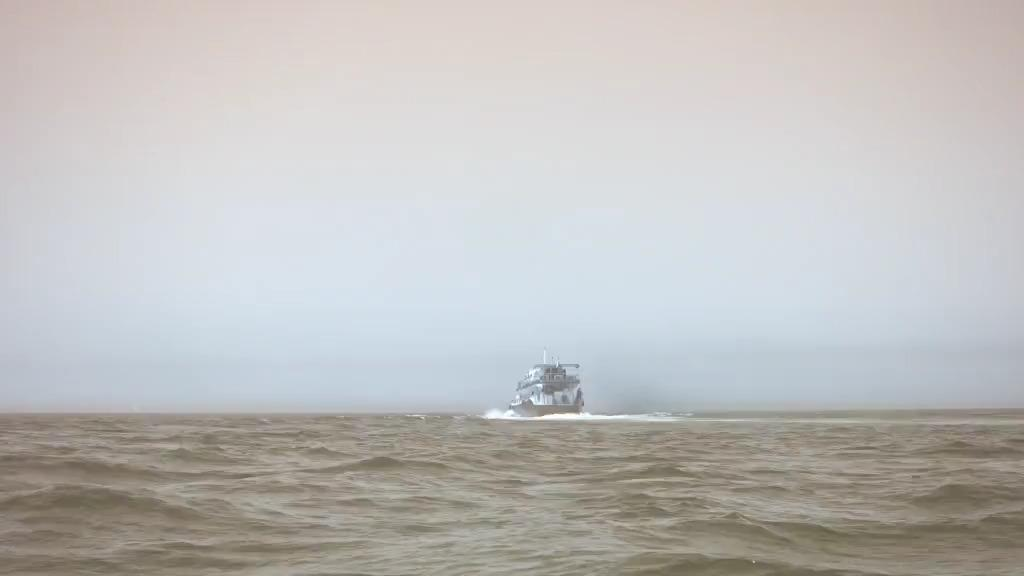PassengerShip: (506, 339, 594, 419)
